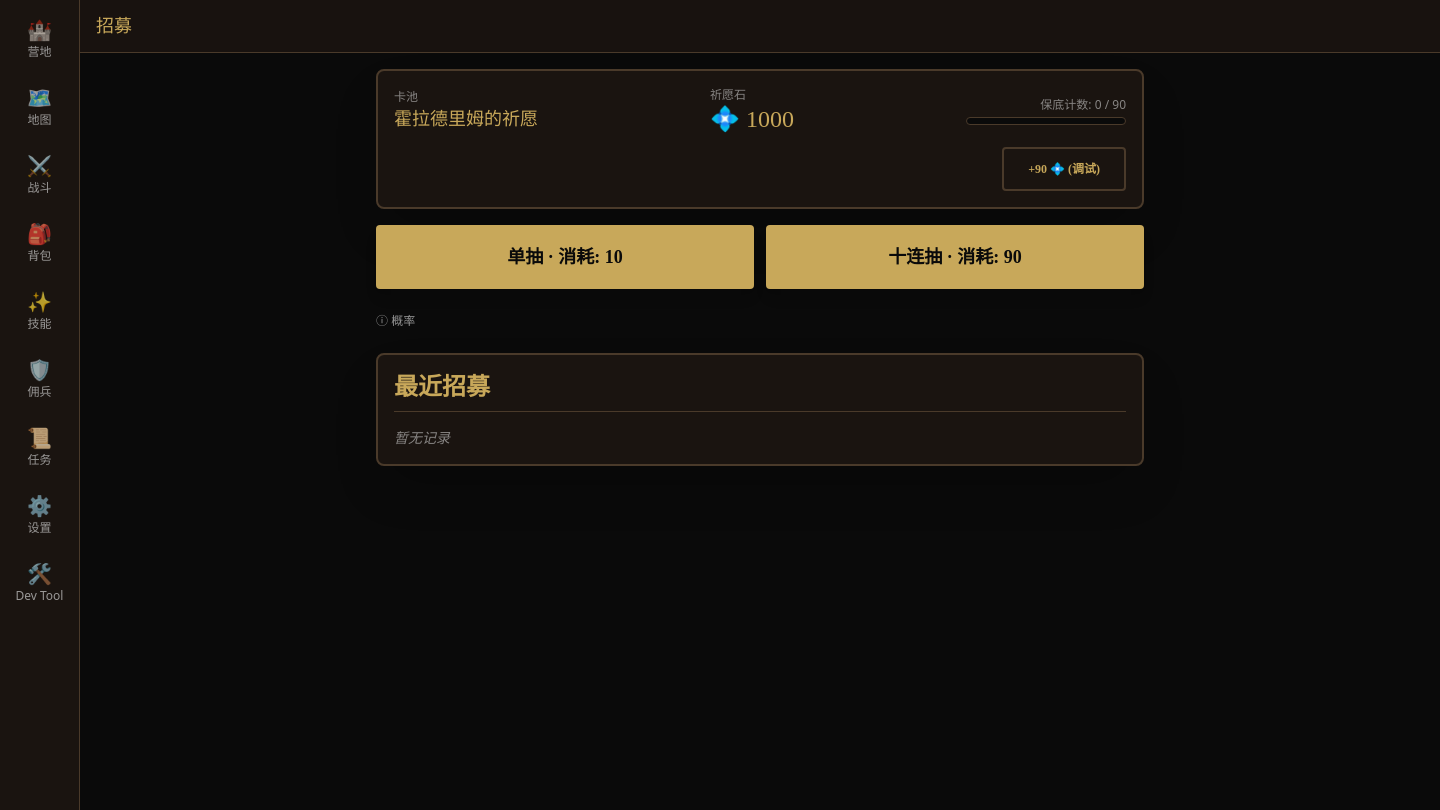
GachaScreen › runs a single pull and adds a merc to the roster
Click the button with test id "gacha-pull-1" at (565, 257), box [376,225,754,289]
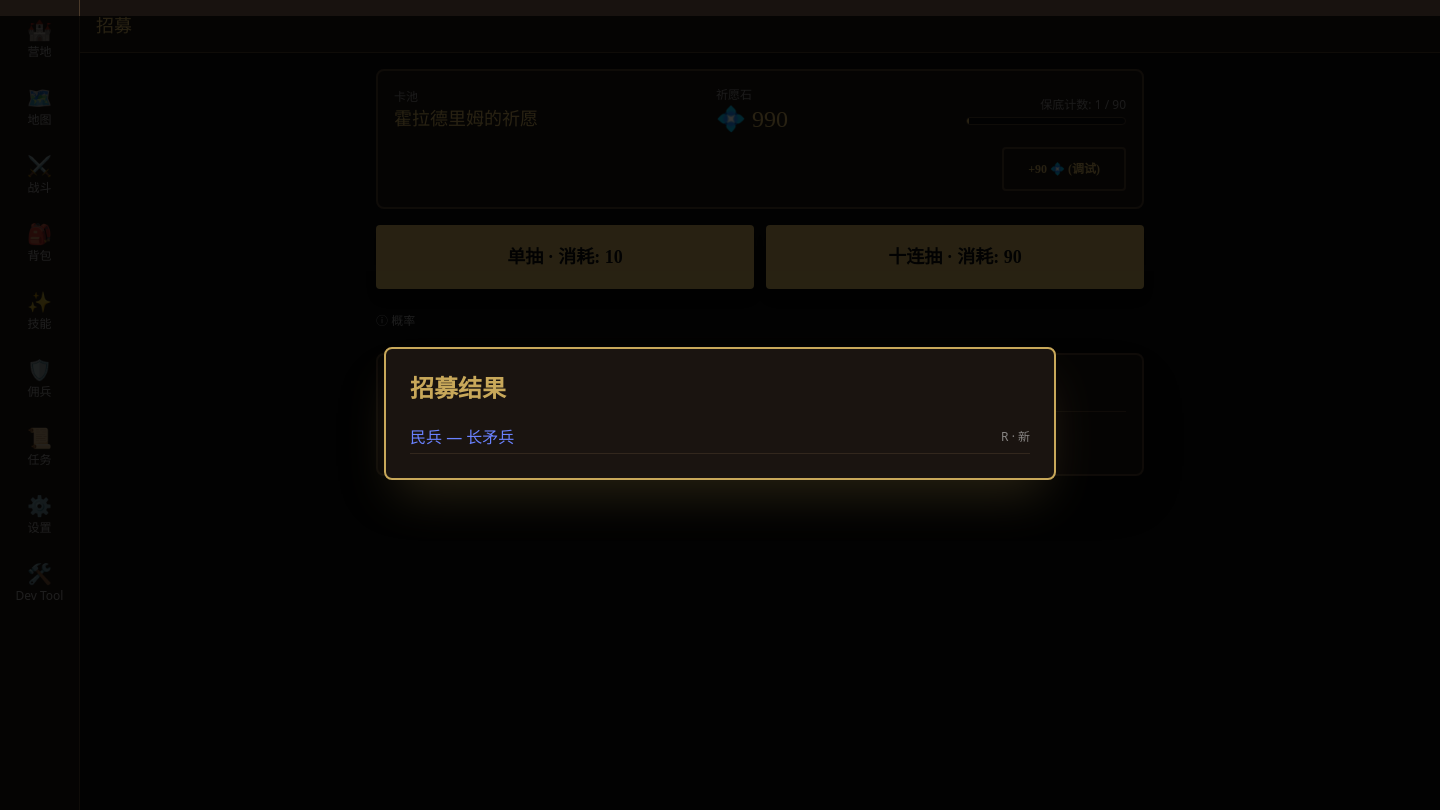
Expected: the list with test id "gacha-results" is shown, [410,420,1030,454]
